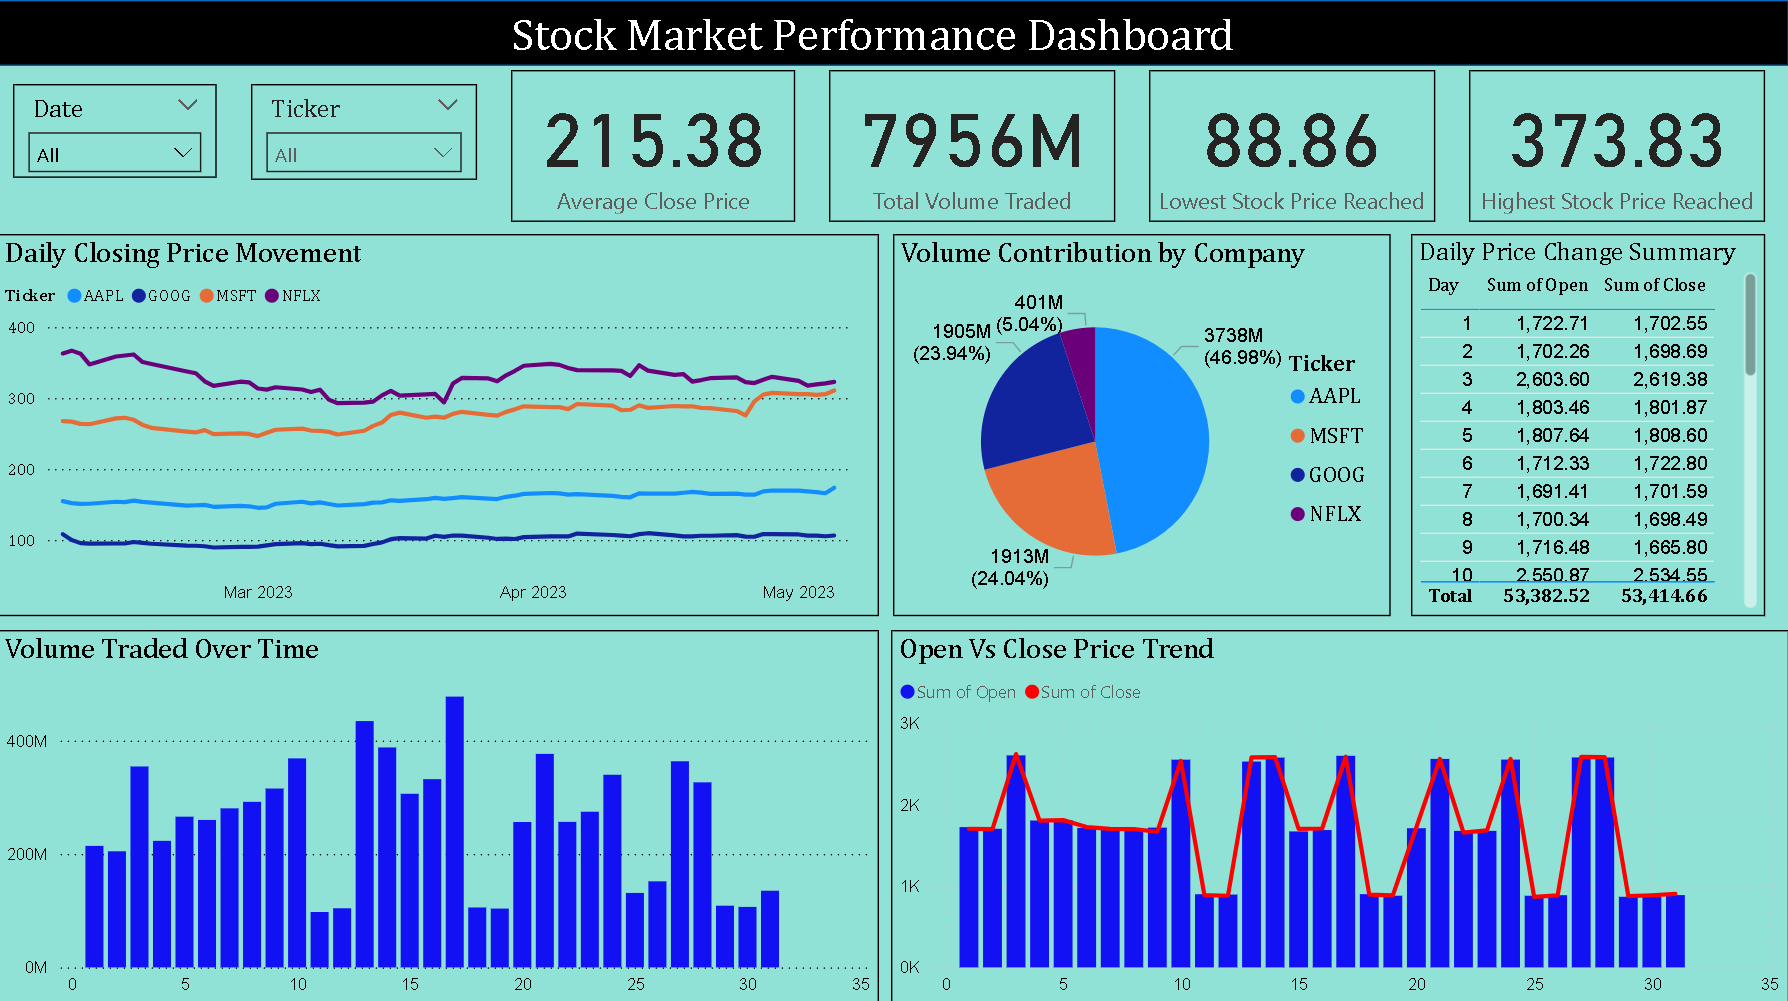

The dashboard page shown, as its layout file describes it:
{"tool":"powerbi","page":{"name":"Page 1","canvas":[1280,720],"ordinal":0},"visuals":[{"type":"card","fields":{"Values":["stocks.Average close"]},"box":[367.1,50,202.9,108.6],"z":0},{"type":"card","fields":{"Values":["stocks.MAX HIGH"]},"box":[1051.4,50,211.4,108.6],"z":1000},{"type":"card","fields":{"Values":["stocks.MIN LOW"]},"box":[822.9,50,204.3,108.6],"z":2000},{"type":"card","fields":{"Values":["stocks.Total Volume"]},"box":[594.3,50,204.3,108.6],"z":3000},{"type":"lineChart","title":"Daily Closing Price Movement","fields":{"Category":["stocks.Date"],"Y":["Sum(stocks.Close)"],"Series":["stocks.Ticker"]},"box":[0,167.1,630,272.9],"z":4000},{"type":"clusteredColumnChart","title":"Volume Traded Over Time","fields":{"Category":["stocks.Date.Variation.Date Hierarchy.Day"],"Y":["Sum(stocks.Volume)"]},"box":[0,450,630,270],"z":5000},{"type":"lineClusteredColumnComboChart","title":"Open Vs Close Price Trend","fields":{"Category":["stocks.Date.Variation.Date Hierarchy.Day"],"Y":["Sum(stocks.Open)"],"Y2":["Sum(stocks.Close)"]},"box":[638.6,450,641.4,270],"z":6000},{"type":"tableEx","title":"Daily Price Change Summary","fields":{"Values":["stocks.Date.Variation.Date Hierarchy.Day","Sum(stocks.Open)","Sum(stocks.Close)"]},"box":[1010,167.1,252.9,272.9],"z":7000},{"type":"slicer","fields":{"Values":["stocks.Date"]},"box":[11.4,60,145.7,67.1],"z":8000},{"type":"slicer","fields":{"Values":["stocks.Ticker"]},"box":[181.4,60,161.4,68.6],"z":9000},{"type":"textbox","box":[375.7,0,550,48.6],"z":10000},{"type":"pieChart","title":"Volume Contribution by Company","fields":{"Category":["stocks.Ticker"],"Y":["Sum(stocks.Volume)"]},"box":[640,167.1,355.7,272.9],"z":11000},{"type":"shape","box":[0,0,1280,47.1],"z":12000},{"type":"textbox","box":[362.9,0,551.4,48.6],"z":13000}]}

Visuals, with their boxes in screenshot pixels (x1, y1, x2, y2), scaled from the page's 1280x720 canvas onto the 1788x1001 screenshot:
card - stocks.Average close: (513, 70, 796, 220)
card - stocks.MAX HIGH: (1469, 70, 1764, 220)
card - stocks.MIN LOW: (1149, 70, 1435, 220)
card - stocks.Total Volume: (830, 70, 1116, 220)
"Daily Closing Price Movement" lineChart: (0, 232, 880, 612)
"Volume Traded Over Time" clusteredColumnChart: (0, 626, 880, 1000)
"Open Vs Close Price Trend" lineClusteredColumnComboChart: (892, 626, 1787, 1000)
"Daily Price Change Summary" tableEx: (1411, 232, 1764, 612)
slicer - stocks.Date: (16, 83, 219, 177)
slicer - stocks.Ticker: (253, 83, 479, 179)
textbox: (525, 0, 1293, 68)
"Volume Contribution by Company" pieChart: (894, 232, 1391, 612)
shape: (0, 0, 1787, 65)
textbox: (507, 0, 1277, 68)
